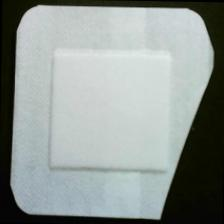Cut: (9, 4, 218, 222)
